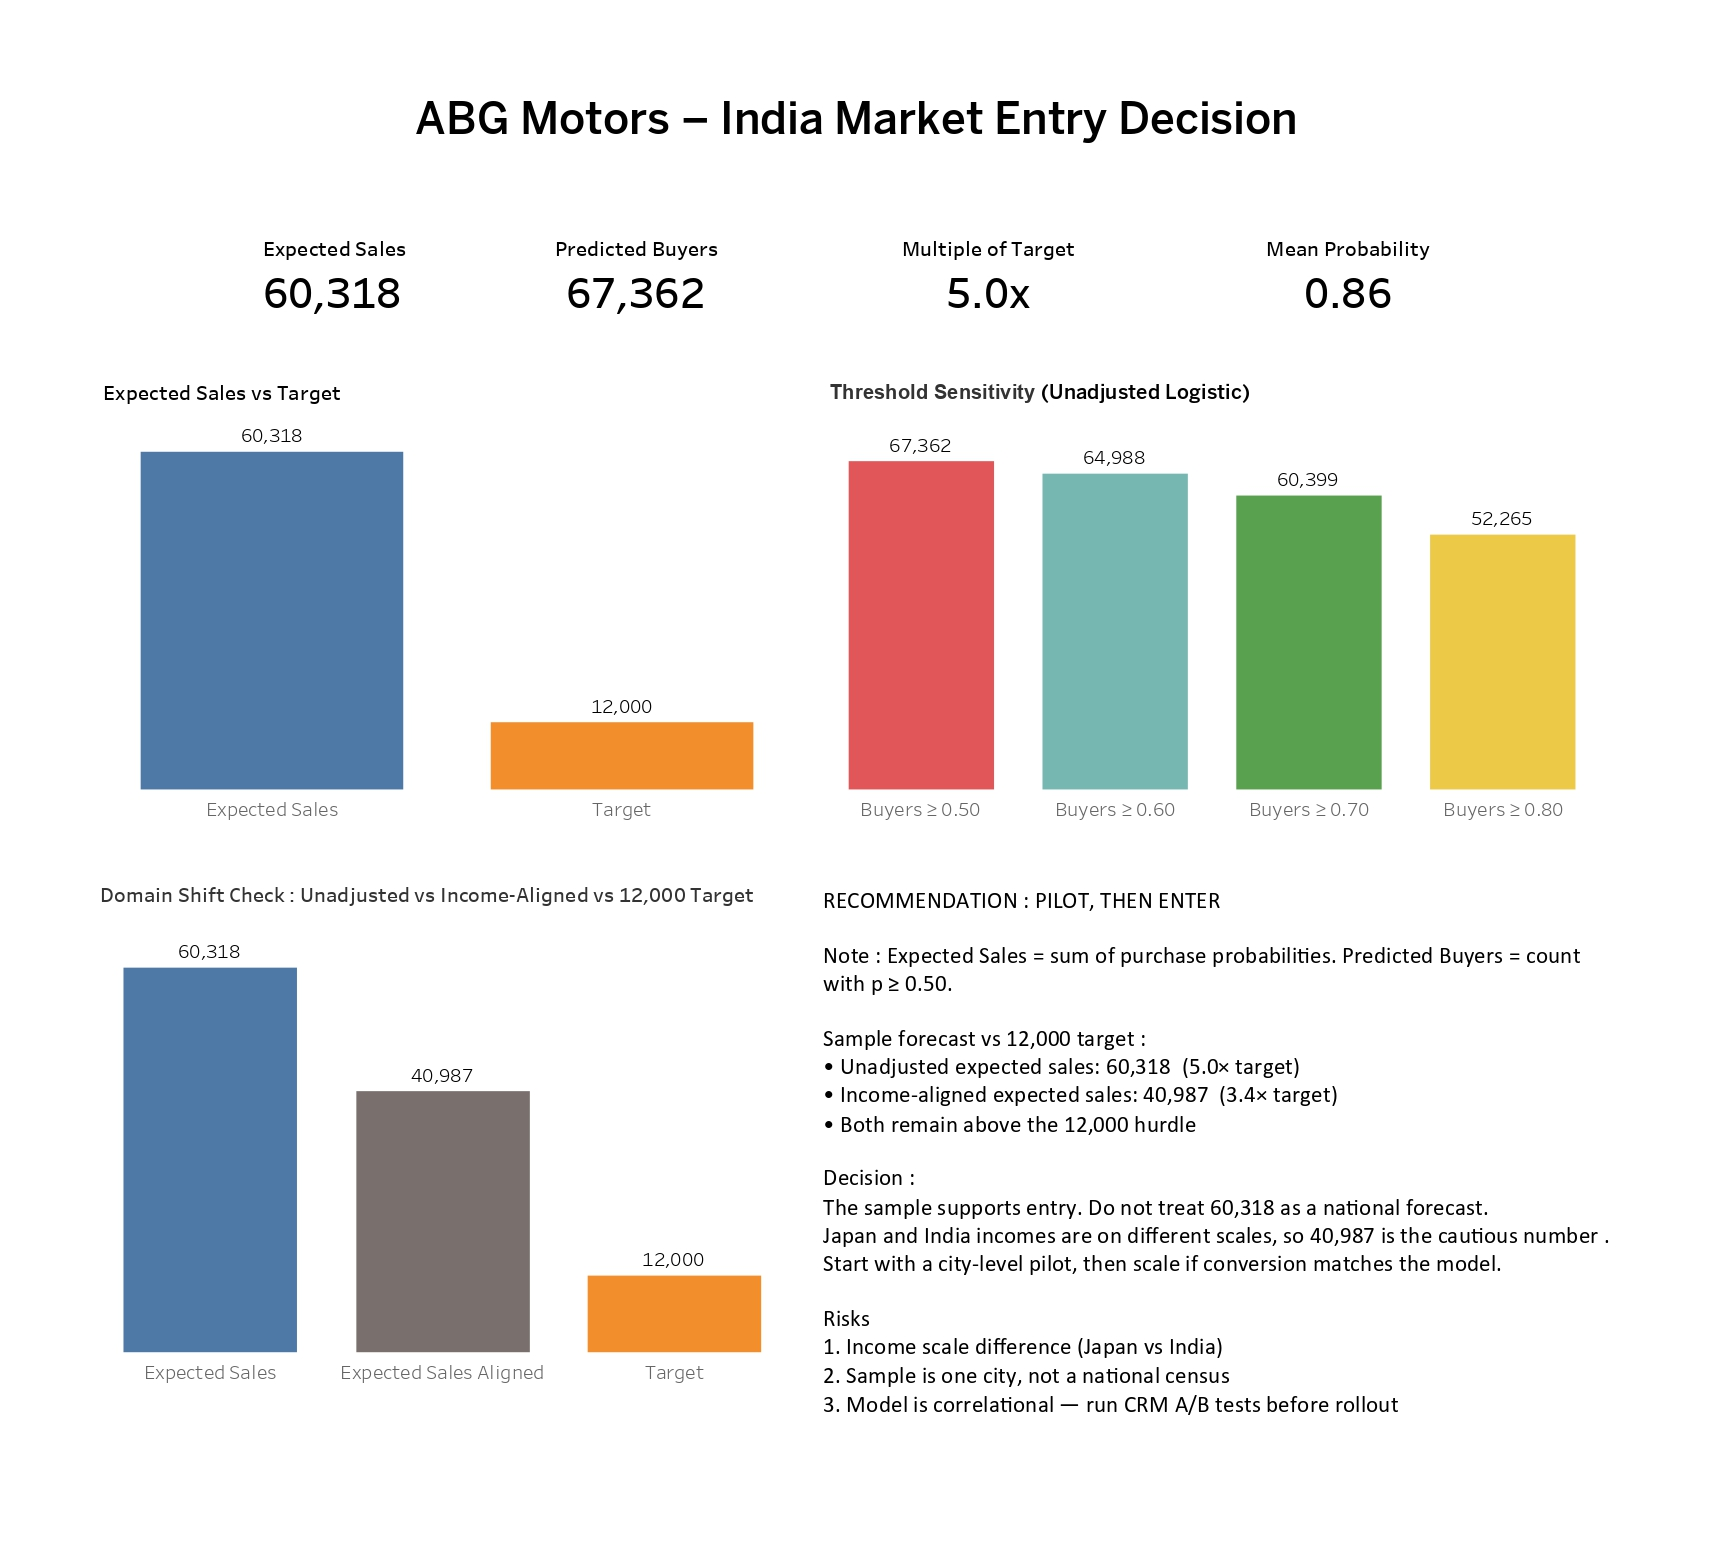

What the dashboard file says about the page in this screenshot:
{"tool":"tableau","page":{"name":"Dashboard 1","canvas":[1000,900],"ordinal":0},"visuals":[{"type":"title","box":[8,8,984,42]},{"type":"worksheet","title":"Expected Sales vs Target","mark":"Bar","box":[14,188,448,309]},{"type":"worksheet","title":"Threshold Sensitivity","mark":"Bar","box":[479,189,497,308]},{"type":"worksheet","title":"Domain Shift Check","mark":"Automatic","box":[12,509,446,348]},{"type":"text","box":[476,515,515,360]}]}

Visuals, with their boxes in screenshot pixels (x1, y1, x2, y2), scaled from the page's 1000x900 canvas onto the 1713x1557 screenshot:
title: 14/14/1699/86
"Expected Sales vs Target" worksheet (Bar marks): 24/325/791/860
"Threshold Sensitivity" worksheet (Bar marks): 821/327/1672/860
"Domain Shift Check" worksheet: 21/881/785/1483
text: 815/891/1698/1514
